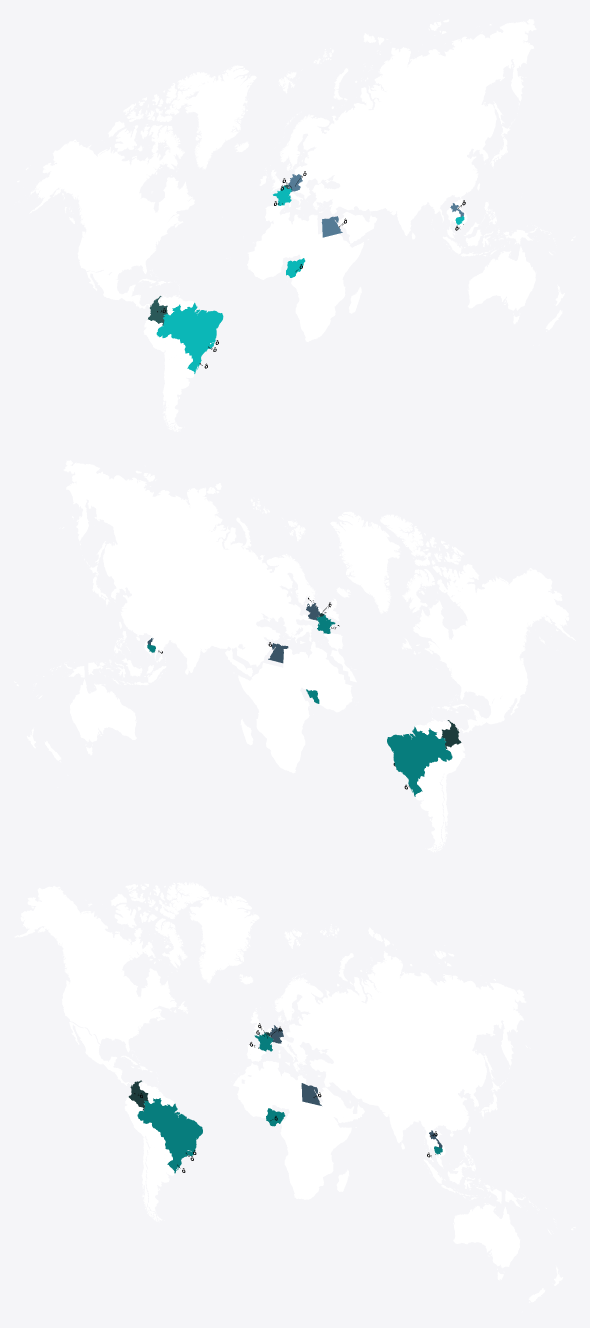
The model's file is mapw.gltf.
3 views of the same model, one above another, from view 1: azimuth 30°, elevation 25°; view 2: azimuth 150°, elevation 25°; view 3: azimuth 330°, elevation 25° (orthographic).
Parts seen in each view (by area): view 1: Spline_747, Spline_198, Spline_546, Spline_1050, Spline_535, Spline_1395, Spline_120, Spline_860, Spline_138, Spline_992, Spline_210; view 2: Spline_747, Spline_198, Spline_546, Spline_1050, Spline_535, Spline_1395, Spline_120, Spline_860, Spline_992, Spline_138; view 3: Spline_747, Spline_198, Spline_546, Spline_1050, Spline_535, Spline_1395, Spline_120, Spline_860, Spline_992, Spline_138, Spline_210.
Boxes of the visible parts, left/top/right/bottom form: Spline_747: left=280, top=19, right=536, bottom=235; Spline_198: left=29, top=139, right=194, bottom=279; Spline_546: left=247, top=212, right=363, bottom=341; Spline_1050: left=185, top=65, right=256, bottom=169; Spline_535: left=467, top=246, right=535, bottom=310; Spline_1395: left=156, top=302, right=223, bottom=373; Spline_120: left=166, top=355, right=192, bottom=423; Spline_860: left=165, top=72, right=210, bottom=114; Spline_138: left=86, top=270, right=135, bottom=300; Spline_992: left=151, top=125, right=184, bottom=169; Spline_210: left=339, top=212, right=374, bottom=240; Spline_747: left=63, top=460, right=315, bottom=672; Spline_198: left=413, top=568, right=575, bottom=704; Spline_546: left=238, top=646, right=352, bottom=773; Spline_1050: left=330, top=511, right=400, bottom=613; Spline_535: left=70, top=679, right=136, bottom=742; Spline_1395: left=387, top=726, right=452, bottom=796; Spline_120: left=417, top=778, right=443, bottom=844; Spline_860: left=380, top=514, right=424, bottom=556; Spline_992: left=402, top=569, right=434, bottom=612; Spline_138: left=473, top=696, right=520, bottom=724; Spline_747: left=274, top=952, right=526, bottom=1143; Spline_198: left=14, top=886, right=176, bottom=1052; Spline_546: left=237, top=1061, right=351, bottom=1199; Spline_1050: left=189, top=896, right=259, bottom=983; Spline_535: left=453, top=1203, right=519, bottom=1268; Spline_1395: left=137, top=1098, right=202, bottom=1173; Spline_120: left=146, top=1145, right=172, bottom=1212; Spline_860: left=164, top=882, right=209, bottom=914; Spline_992: left=155, top=918, right=187, bottom=968; Spline_138: left=69, top=1022, right=116, bottom=1067; Spline_210: left=318, top=1087, right=352, bottom=1120.
Bounding box in the file's own units: 2438 × 1492 × 135.
